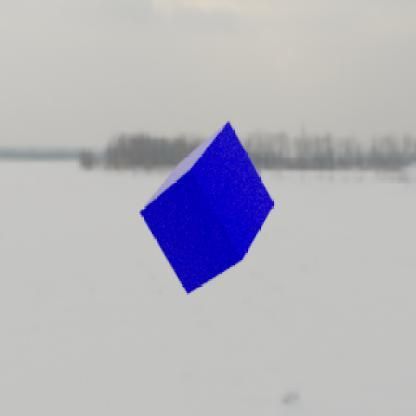blue_cube: (138, 120, 274, 294)
